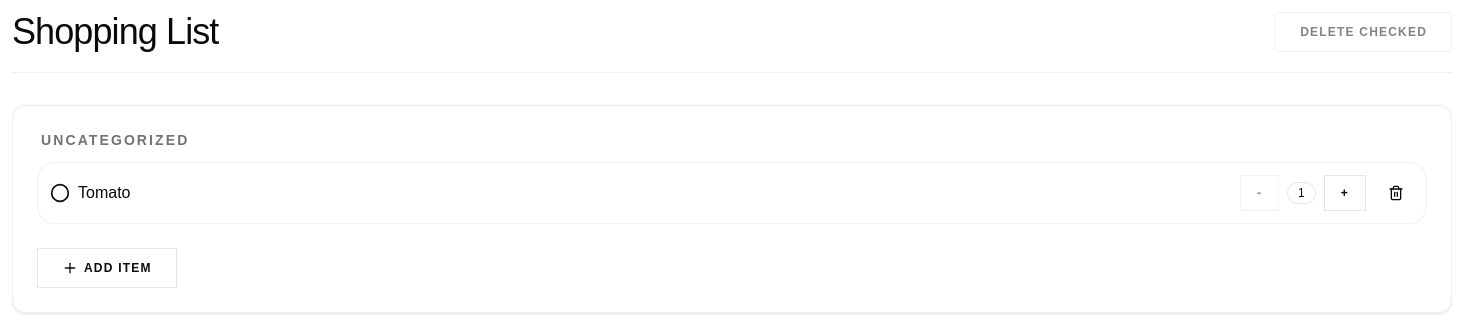
Test: ShoppingListPage › optimistically toggles an item while the request is pending
Click the button with aria-label "Toggle checked state" at (104,192), box [50, 181, 1228, 205]
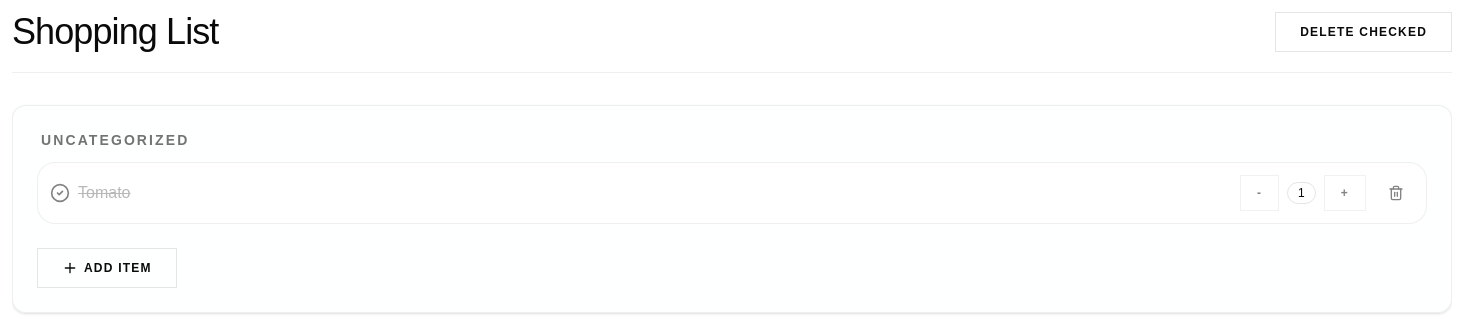
expect the button with aria-label "Toggle checked state" is disabled: met, box [50, 181, 1228, 205]
